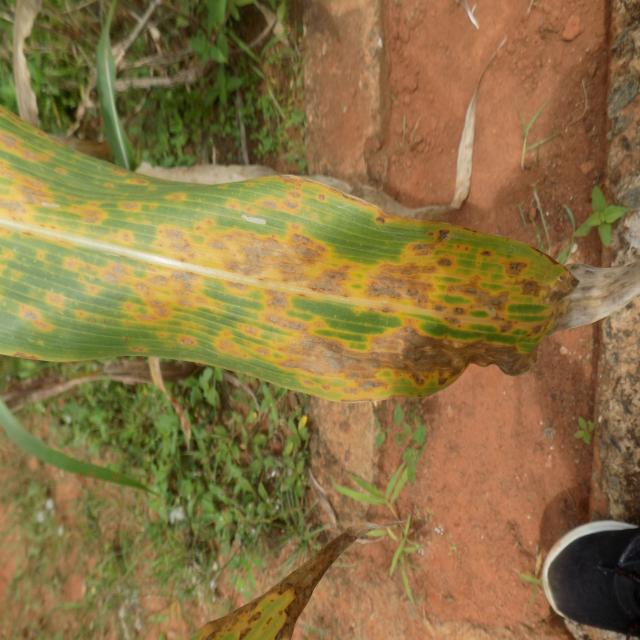millet_rust: (0, 107, 579, 400)
